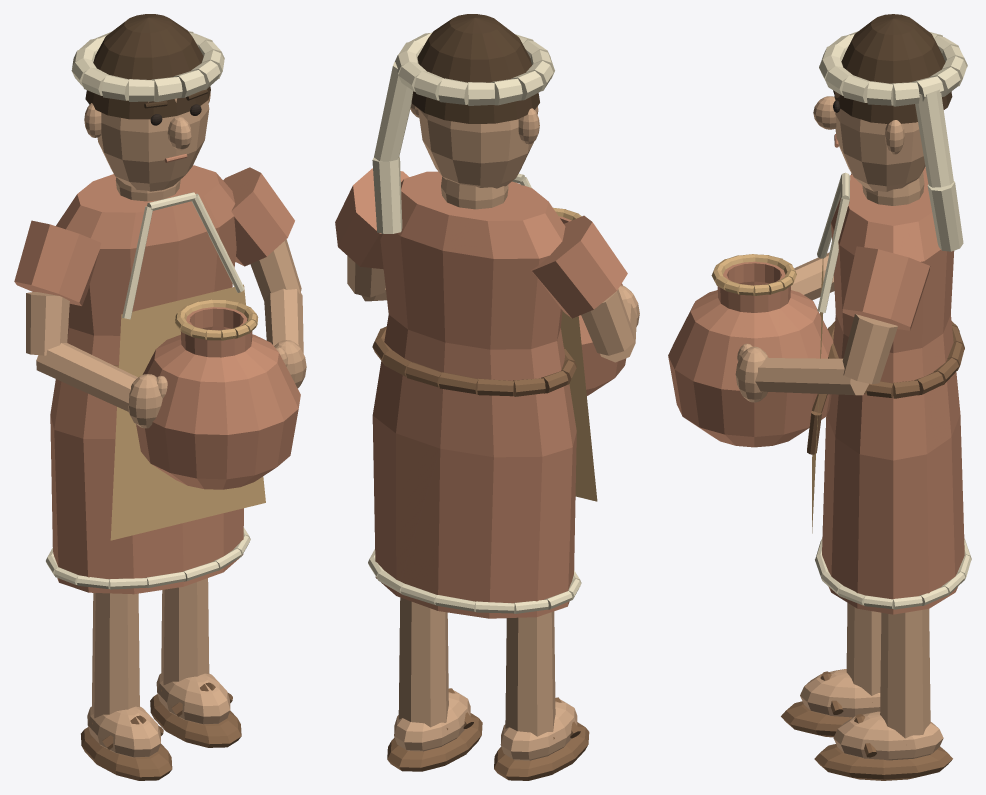
3 renders of one model, left to right at view 1: azimuth 30°, elevation 25°; view 2: azimuth 150°, elevation 25°; view 3: azimuth 270°, elevation 25°, orthographic. The views are drawn at different scales.
Visible parts, largest first — view 1: BA-0083 Village pottery seller batched; view 2: BA-0083 Village pottery seller batched; view 3: BA-0083 Village pottery seller batched.
Part boxes in pixels (box(x1,y1,x2,y2)): BA-0083 Village pottery seller batched: box(14, 14, 306, 780); BA-0083 Village pottery seller batched: box(335, 14, 639, 780); BA-0083 Village pottery seller batched: box(668, 14, 971, 780).
Size of the model in its own units: 0.6433 by 1.64 by 0.6149.
